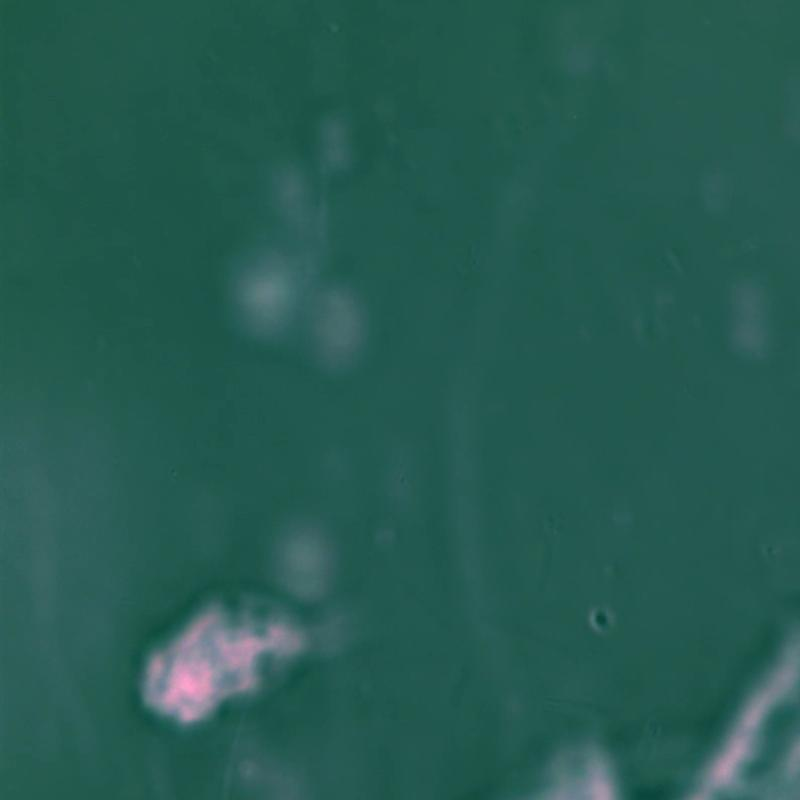depth:100: (103, 575, 441, 748)
